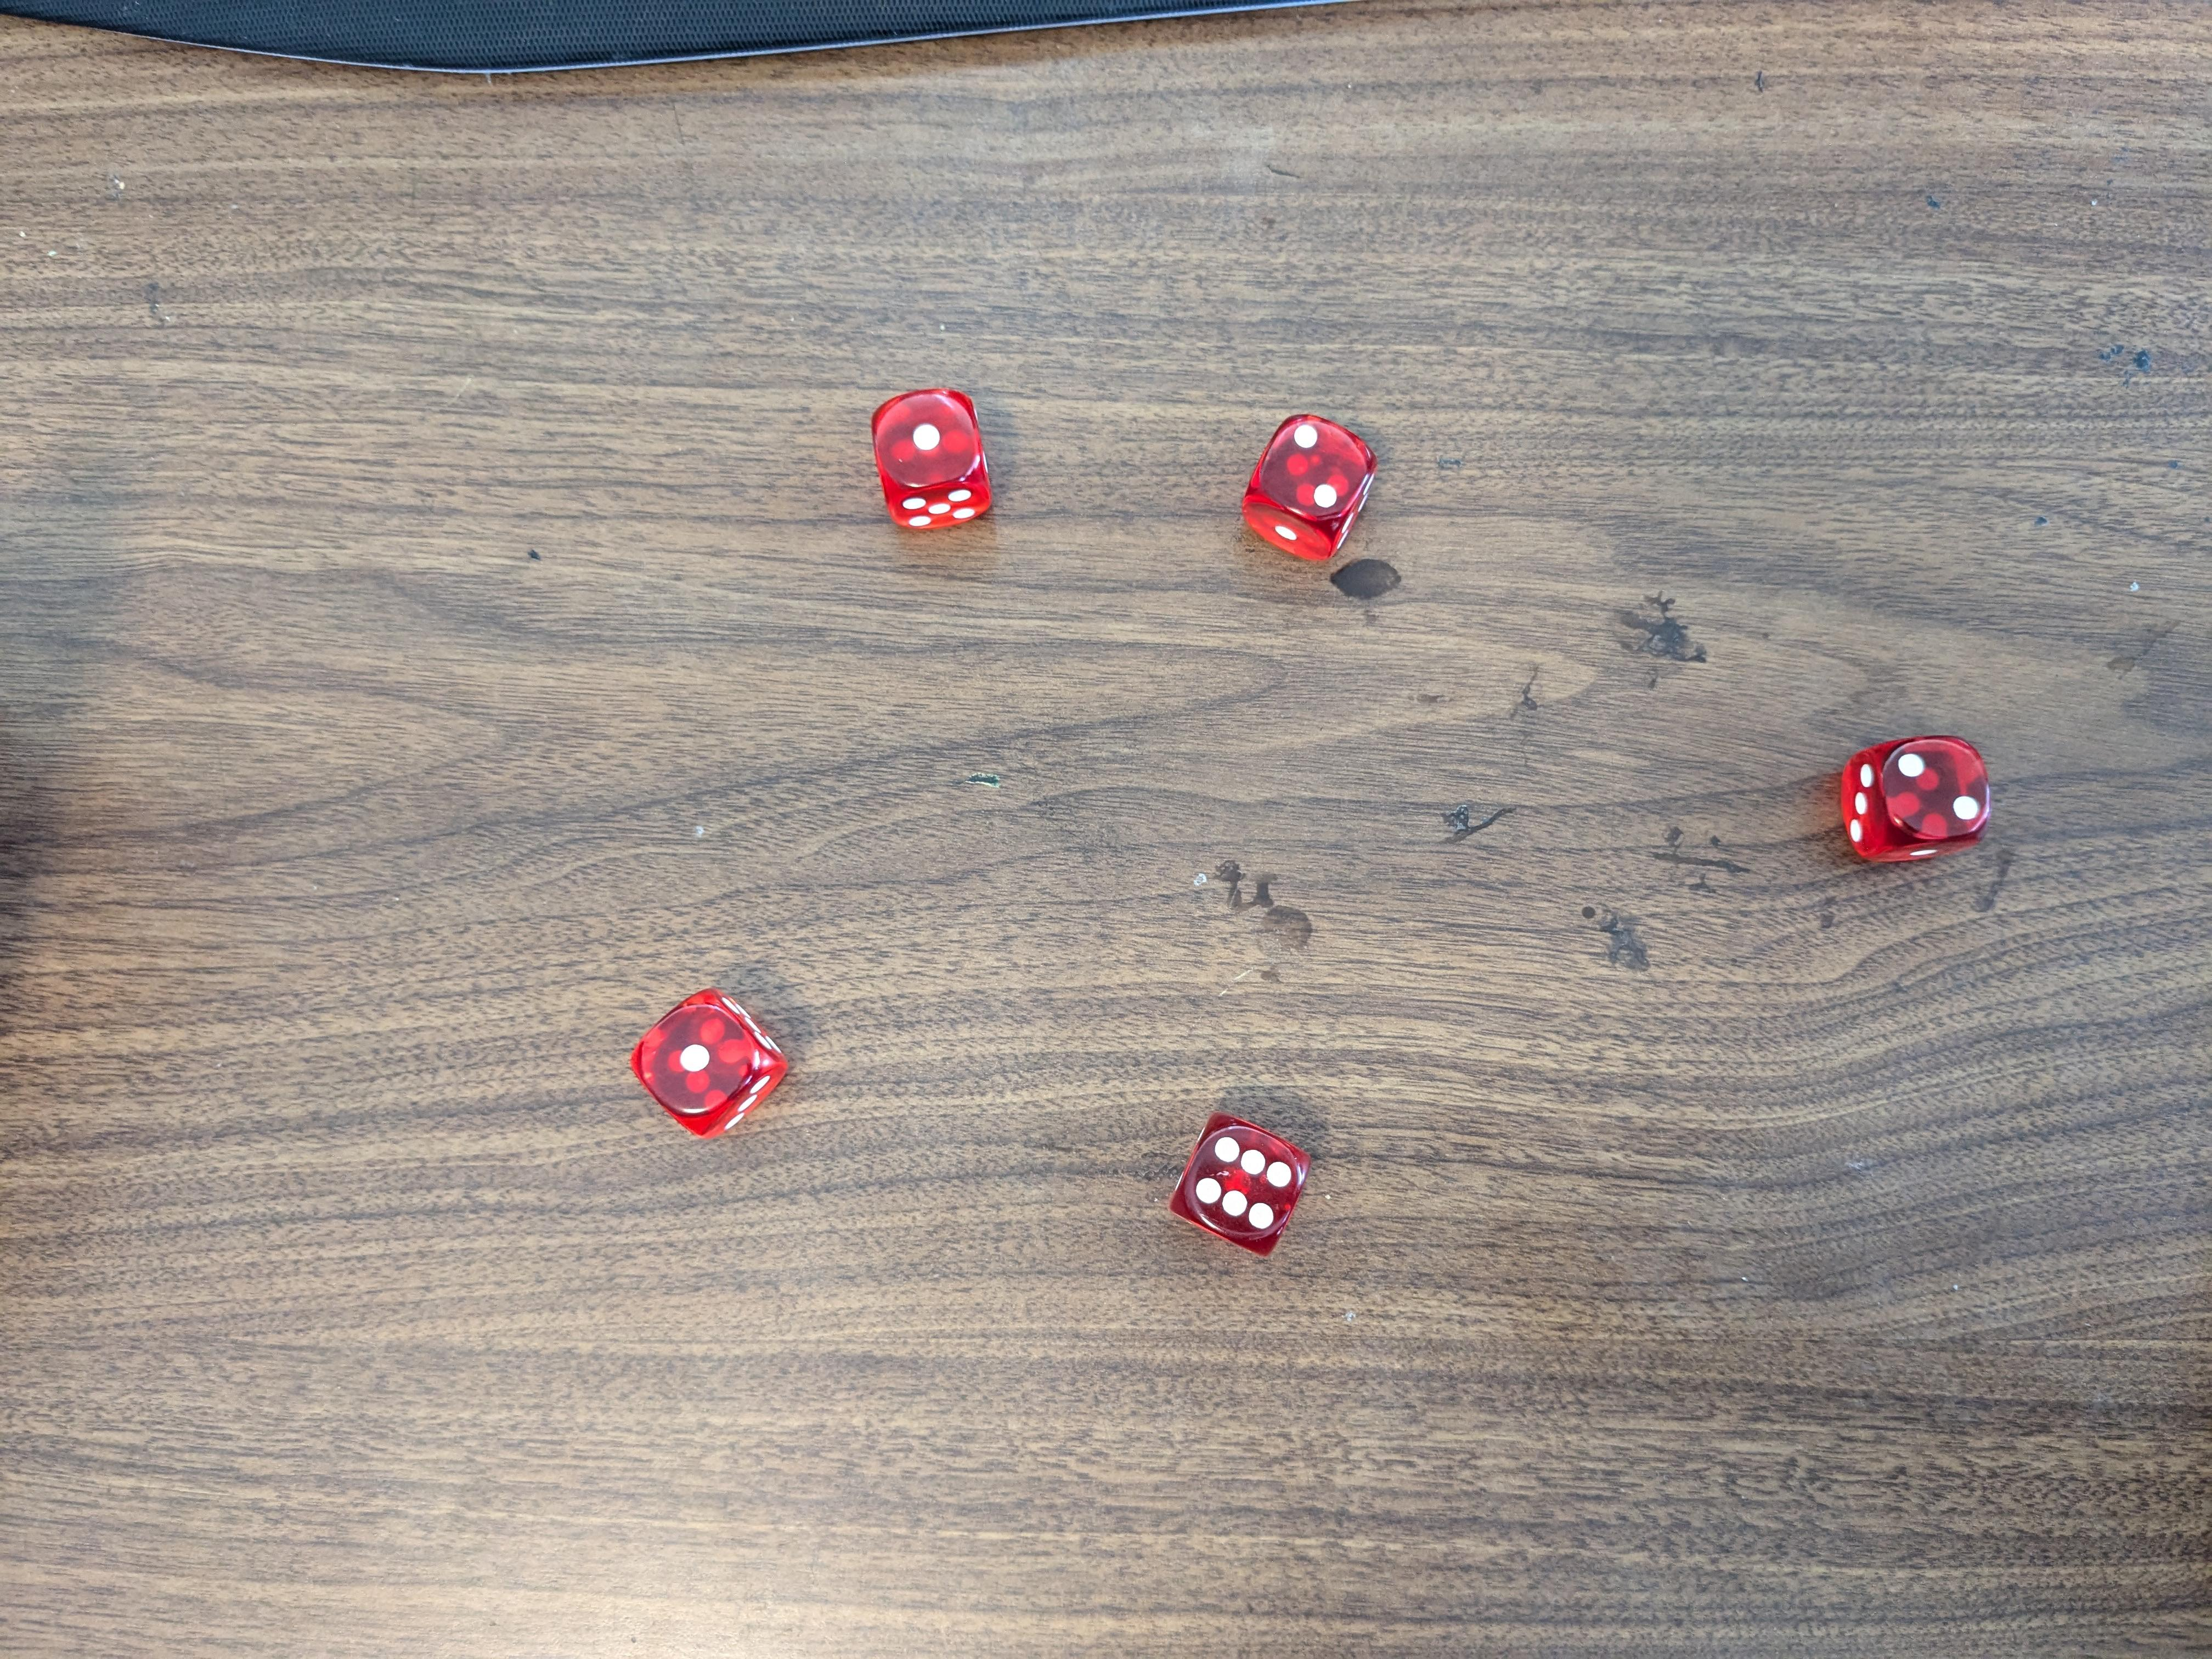one: (627, 990, 794, 1138), (866, 382, 1000, 533)
six: (1170, 1107, 1317, 1260)
two: (1836, 735, 2000, 868), (1242, 415, 1379, 563)
